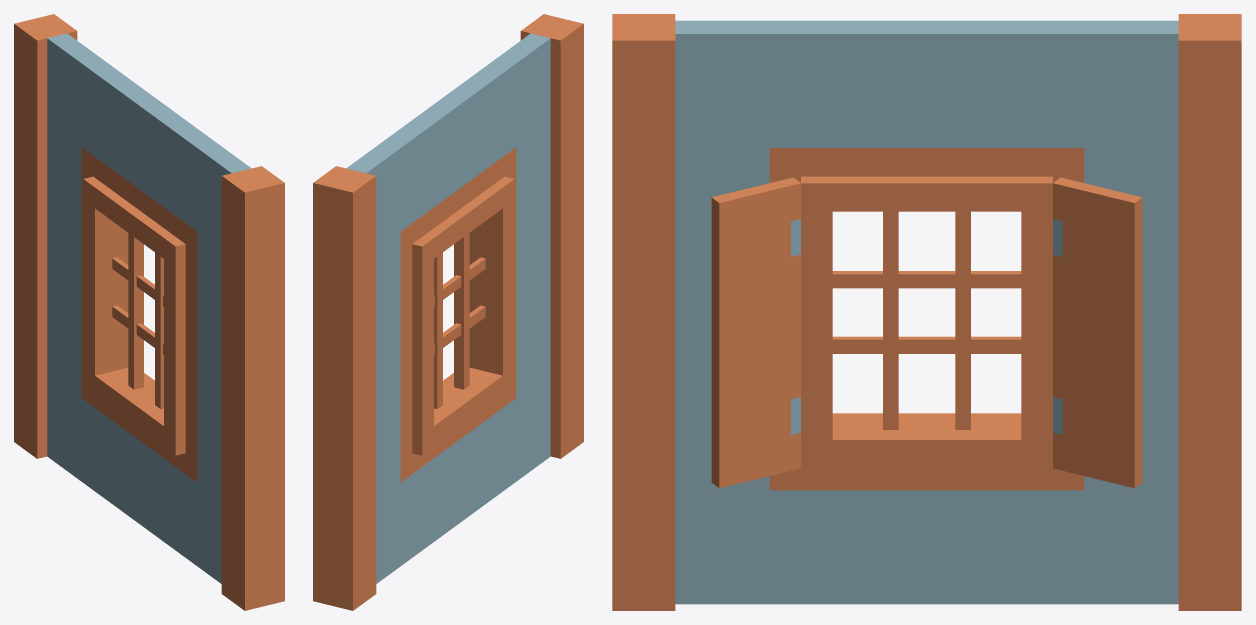
File: wallWindowShutters.dae
The picture shows the model from 3 angles, left to right: view 1: azimuth 30°, elevation 25°; view 2: azimuth 150°, elevation 25°; view 3: azimuth 270°, elevation 25°; orthographic projection. The views are drawn at different scales.
Visible parts, largest first — view 1: wallWindowShutters, detail; view 2: wallWindowShutters, detail; view 3: wallWindowShutters, shutter (×2), detail.
Part boxes in pixels (x1,y1,x2,y2): wallWindowShutters: (14,14,284,610); detail: (112,233,163,408); wallWindowShutters: (313,14,583,610); detail: (434,233,485,408); wallWindowShutters: (612,14,1241,610); shutter (×2): (711,177,1142,488); detail: (832,211,1021,429).
Bounding box in the file's own units: 0.175 × 1 × 1.
